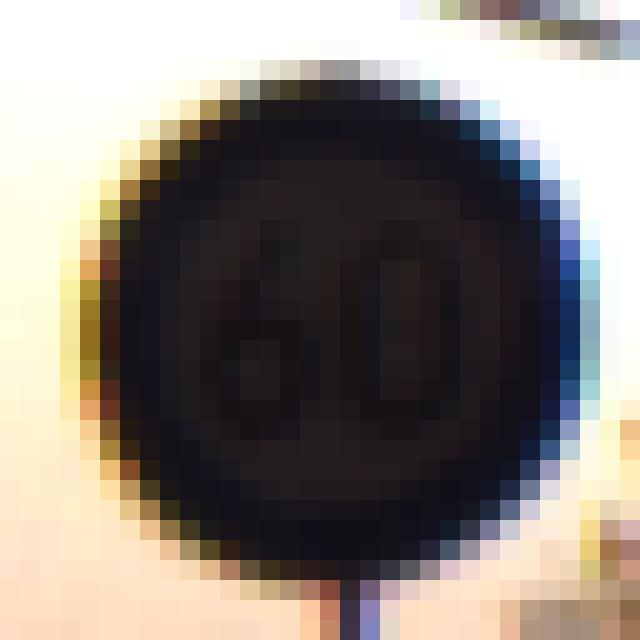SPEED-LIMIT-60: (58, 36, 597, 591)
